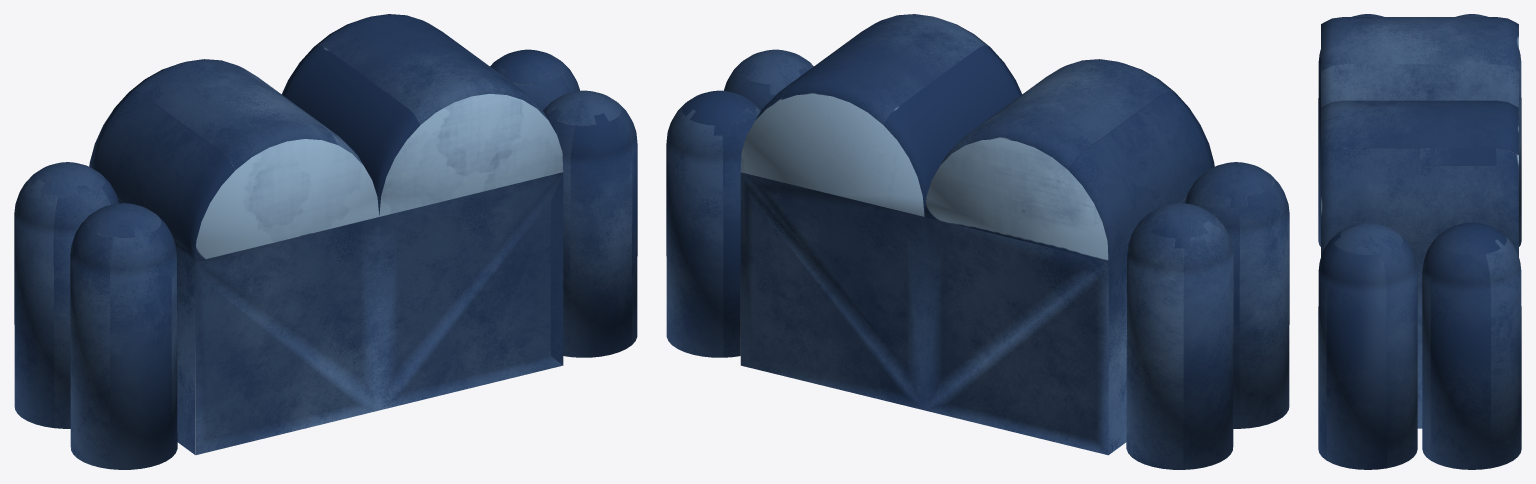
Rendered from castelo_agua.fbx.
3 views of the same model, side by side, from view 1: azimuth 30°, elevation 25°; view 2: azimuth 150°, elevation 25°; view 3: azimuth 270°, elevation 25° (orthographic). The views are drawn at different scales.
Parts seen in each view (by area): view 1: Cube_001, Cube; view 2: Cube_001, Cube; view 3: Cube, Cube_001.
Part boxes in pixels (x1,y1,x2,y2): Cube_001: (89, 14, 563, 455); Cube: (14, 24, 637, 469); Cube_001: (740, 14, 1214, 455); Cube: (666, 49, 1289, 469); Cube: (1318, 14, 1521, 469); Cube_001: (1321, 17, 1518, 428).
Size of the model in its own units: 5.99 by 3.09 by 2.05.
